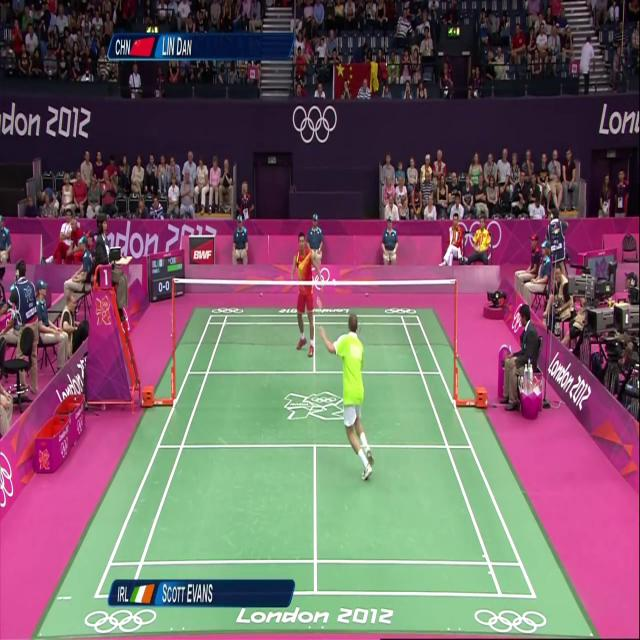Net: (171, 276, 457, 354)
Player1: (308, 302, 385, 483)
Player2: (284, 225, 327, 358)
Shuttlecock: (329, 275, 338, 290)
